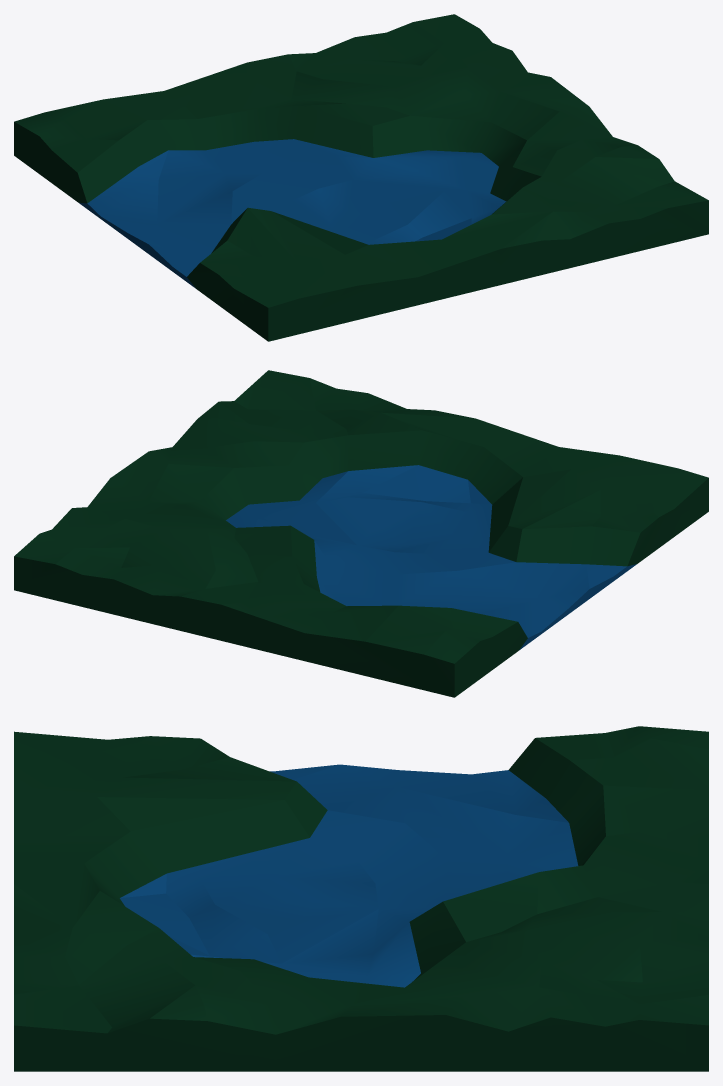
File: Water_River_Ending_R.fbx
The picture shows the model from 3 angles, top to bottom: view 1: azimuth 30°, elevation 25°; view 2: azimuth 150°, elevation 25°; view 3: azimuth 270°, elevation 25°; orthographic projection. The views are drawn at different scales.
Visible parts, largest first — view 1: Water_River_Ending_R; view 2: Water_River_Ending_R; view 3: Water_River_Ending_R.
Boxes of the visible parts, left/top/right/bottom form: Water_River_Ending_R: left=14, top=14, right=708, bottom=341; Water_River_Ending_R: left=14, top=370, right=708, bottom=697; Water_River_Ending_R: left=14, top=726, right=708, bottom=1071.
Bounding box in the file's own units: 147 × 13.97 × 147.
